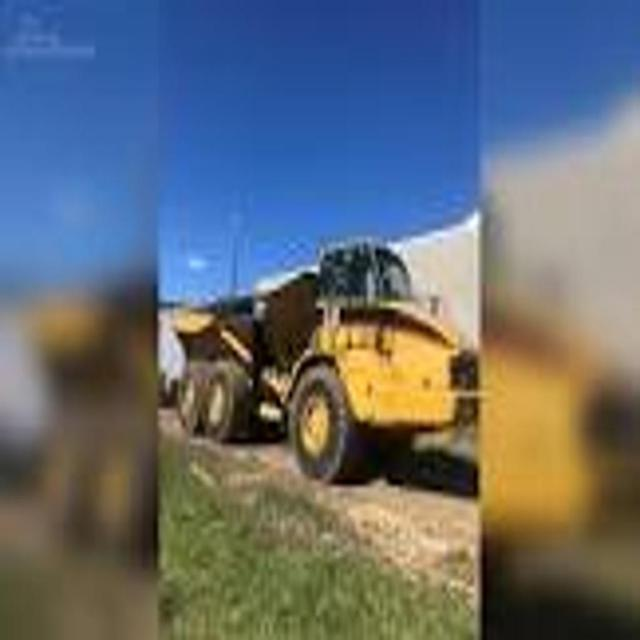dump_truck: (169, 234, 482, 489)
